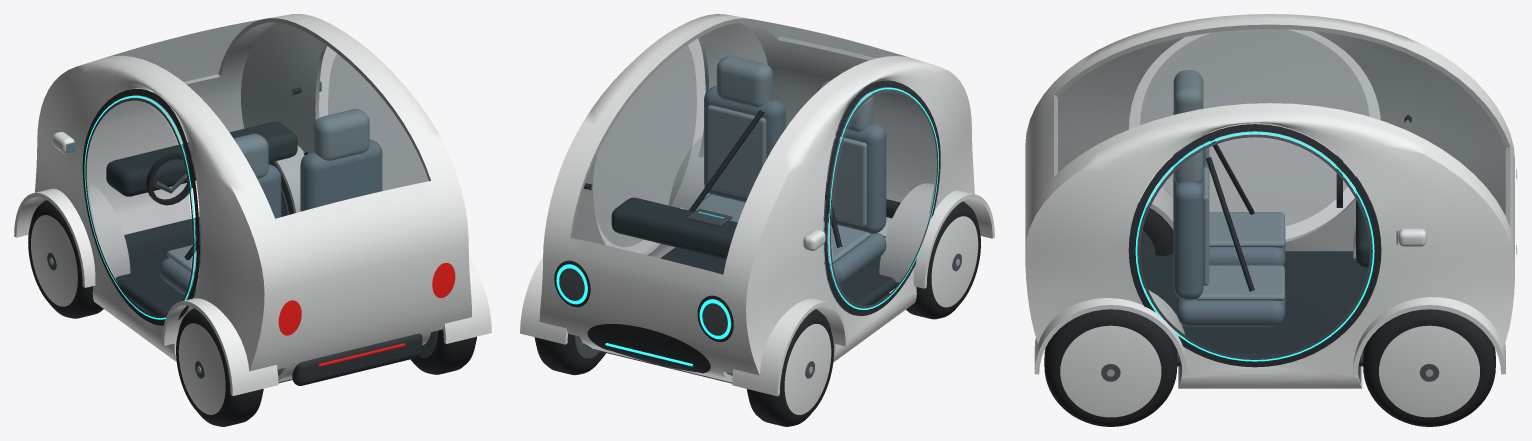
The model's file is city-pod.glb.
3 renders of one model, left to right at view 1: azimuth 30°, elevation 25°; view 2: azimuth 150°, elevation 25°; view 3: azimuth 270°, elevation 25°, orthographic. The views are drawn at different scales.
Visible parts, largest first — view 1: Body geometry, Running wheel geometry.002, Running wheel geometry, Running wheel geometry.003; view 2: Body geometry, Running wheel geometry, Running wheel geometry.002, Running wheel geometry.001; view 3: Body geometry, Running wheel geometry.003, Running wheel geometry.001, Running wheel geometry.002.
Boxes of the visible parts, x1=… form: Body geometry: x1=14, y1=14, x2=491, y2=395; Running wheel geometry.002: x1=176, y1=308, x2=263, y2=426; Running wheel geometry: x1=28, y1=200, x2=103, y2=318; Running wheel geometry.003: x1=410, y1=329, x2=476, y2=374; Body geometry: x1=520, y1=14, x2=994, y2=396; Running wheel geometry: x1=747, y1=309, x2=833, y2=426; Running wheel geometry.002: x1=906, y1=201, x2=980, y2=319; Running wheel geometry.001: x1=534, y1=334, x2=605, y2=375; Body geometry: x1=1025, y1=14, x2=1517, y2=388; Running wheel geometry.003: x1=1044, y1=309, x2=1177, y2=426; Running wheel geometry.001: x1=1363, y1=309, x2=1495, y2=426; Running wheel geometry.002: x1=1130, y1=202, x2=1173, y2=255.
Bounding box in the file's own units: 1.14 × 1.19 × 1.74.
